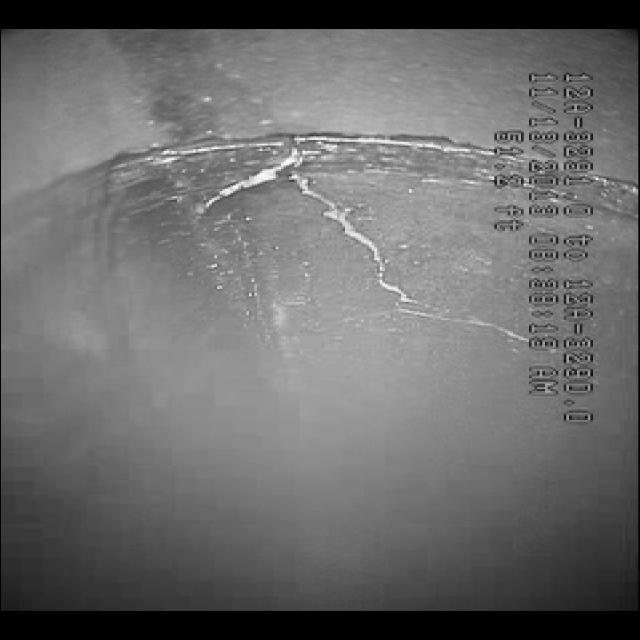Crack: (155, 146, 488, 324)
